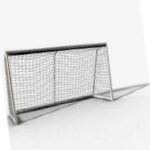goals: (3, 42, 117, 125)
